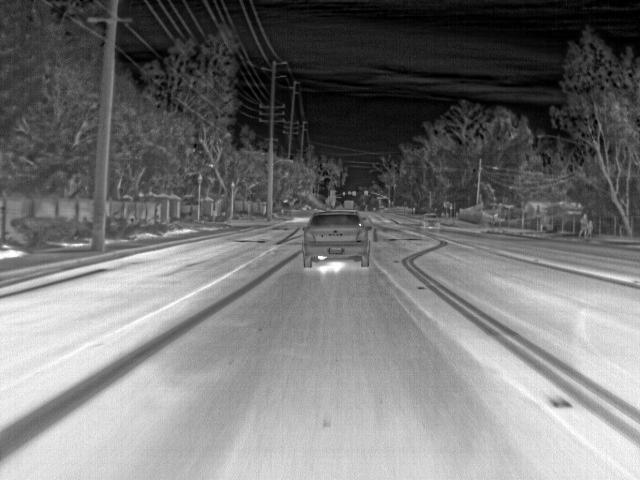car: (305, 210, 371, 268), (421, 211, 440, 230)
person: (580, 213, 592, 235)
